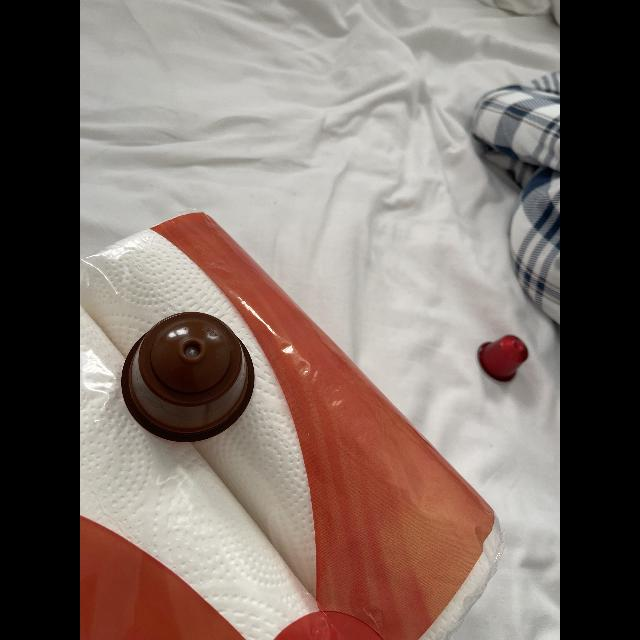intact_capsule: (119, 306, 269, 458)
